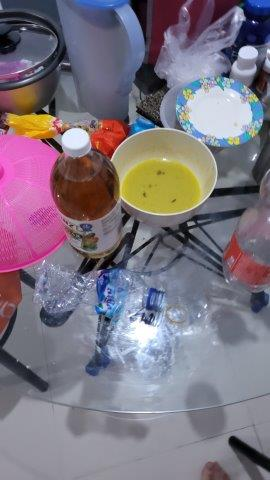botolplastik: (48, 127, 129, 256), (31, 260, 167, 324), (221, 164, 270, 297)
plastik: (159, 4, 236, 90)
